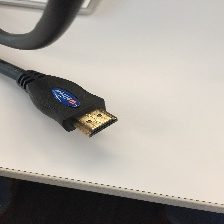hdmi_male: (23, 44, 141, 180)
